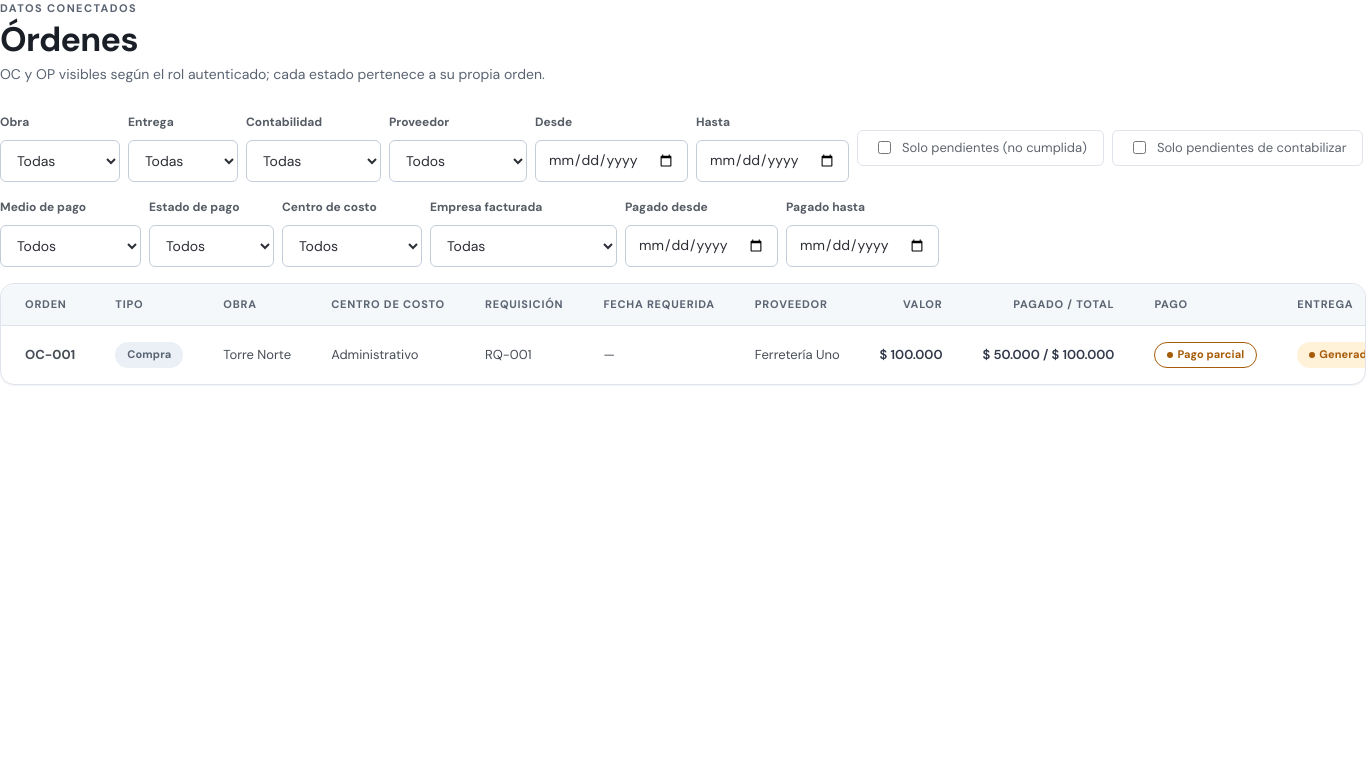
estado de pago derivado (RF-508) › la lista y la ficha muestran el PaymentStatusBadge con el estado que trae el servidor
Click the text "OC-001" at point(50, 354), box [25,346,75,363]
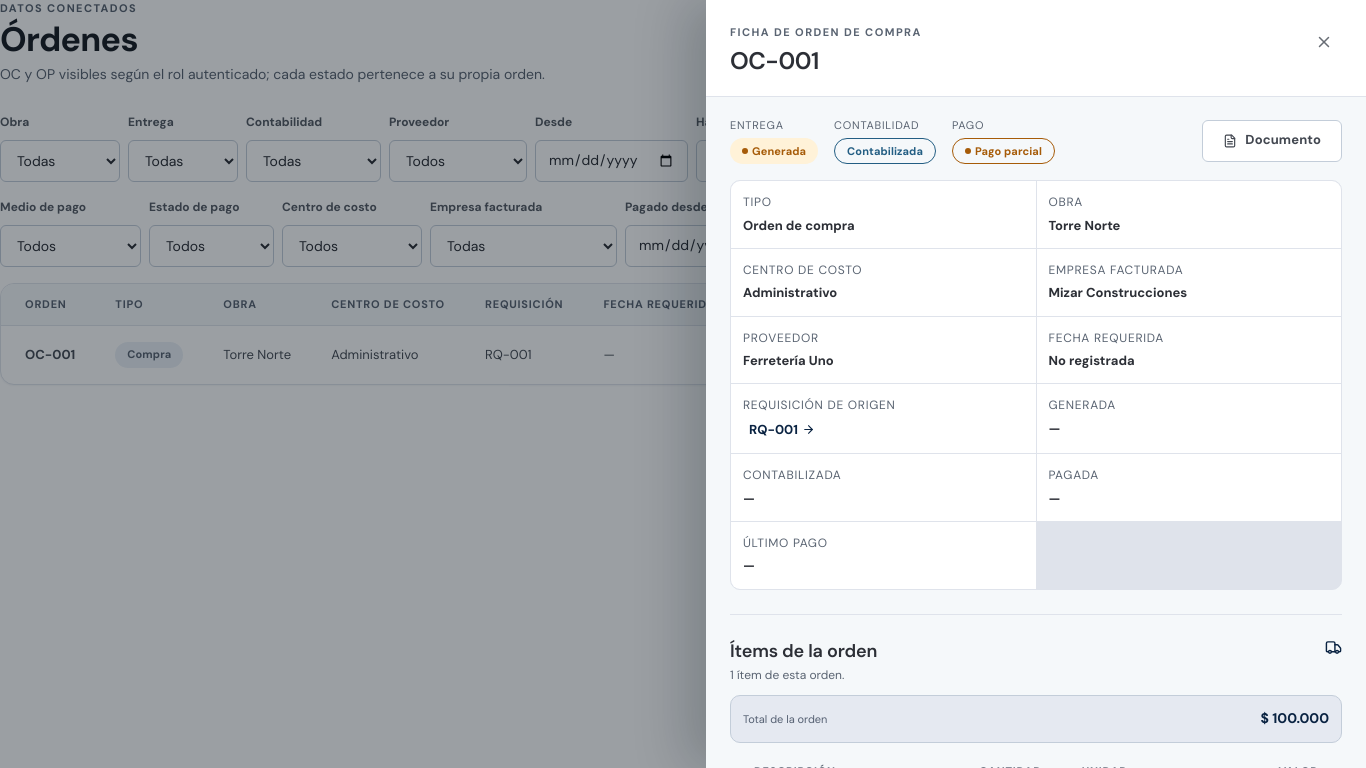
Expected: the dialog "OC-001" is shown, [706,0,1365,767]
Expected: the text "Pago parcial" is shown 2 times, [1154,342,1257,368]; [952,138,1055,164]
Expected: the text "Mizar Construcciones" is shown, [1048,284,1187,301]
